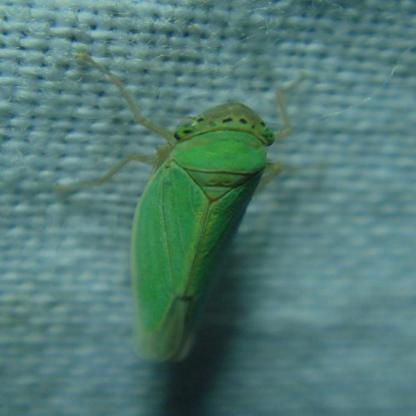green-leafhopper: (97, 89, 302, 362)
